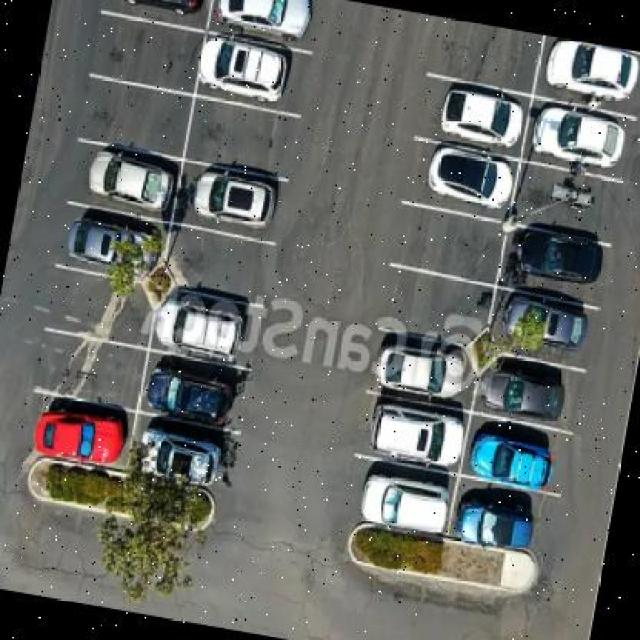Car: (147, 261, 266, 372), (179, 18, 298, 122), (24, 378, 133, 476), (181, 153, 287, 249), (78, 121, 186, 215), (124, 412, 244, 495), (50, 203, 169, 286), (363, 392, 472, 479), (415, 132, 529, 215), (369, 323, 476, 407), (141, 366, 246, 447), (430, 81, 527, 163), (471, 360, 577, 434), (351, 472, 457, 546), (526, 107, 635, 178), (449, 484, 541, 566), (501, 222, 599, 298), (538, 37, 638, 108), (464, 430, 561, 501), (496, 294, 598, 360), (207, 1, 314, 56), (100, 1, 220, 26)
Empty: (375, 271, 492, 354), (515, 158, 627, 238), (169, 220, 275, 304), (187, 100, 289, 186), (427, 17, 540, 91), (81, 81, 189, 156), (394, 213, 503, 286), (44, 278, 155, 349), (33, 341, 144, 412), (92, 18, 199, 87)
